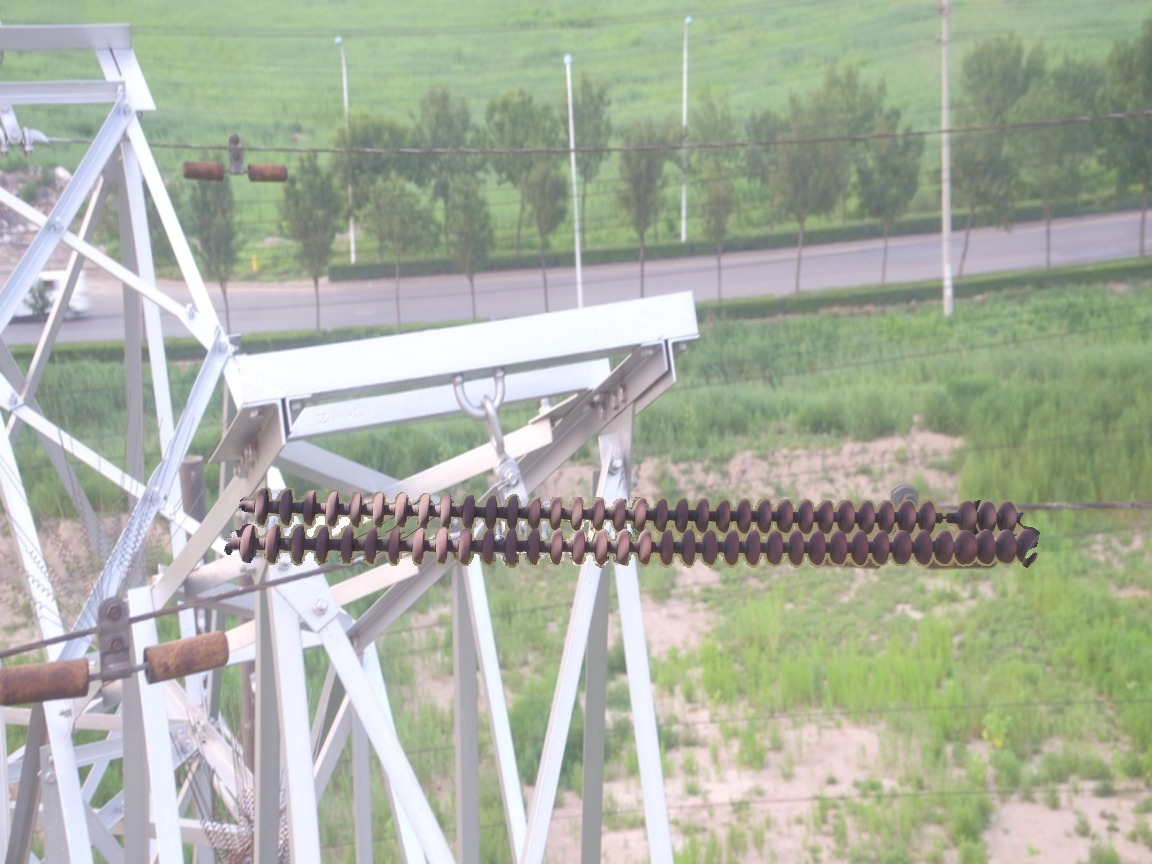defect: (915, 497, 976, 532)
